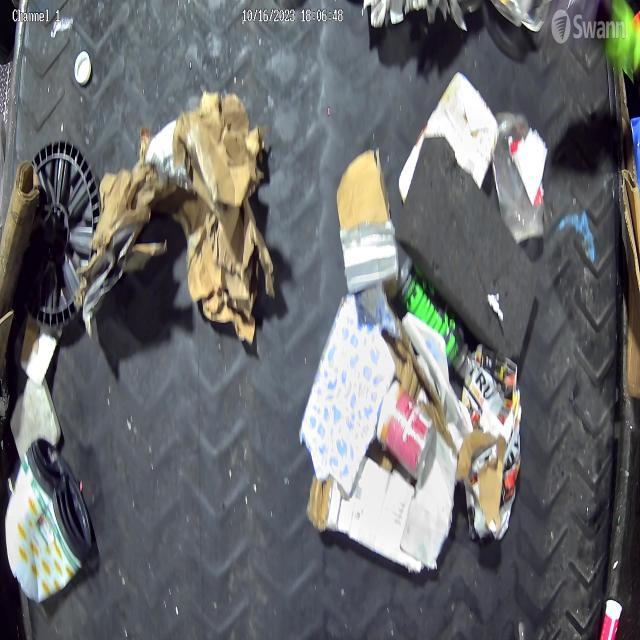can: (376, 380, 436, 478)
